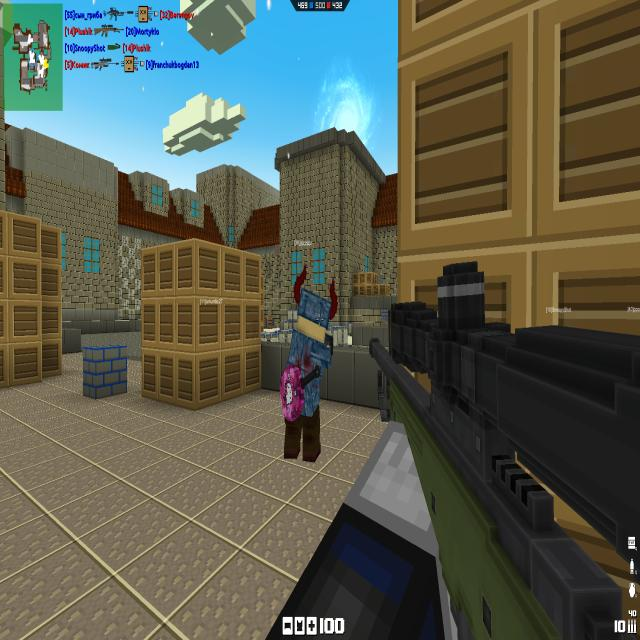player: (279, 264, 336, 463)
